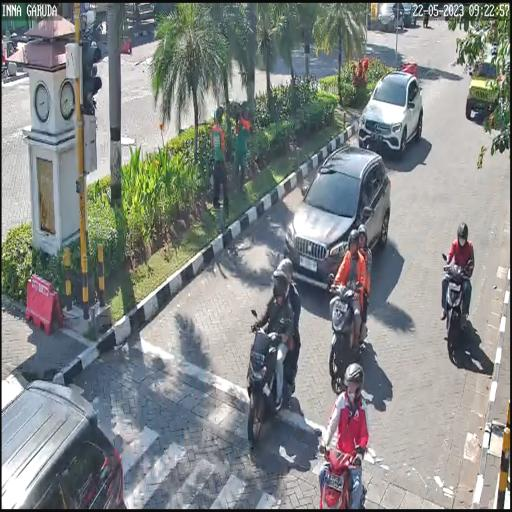mobil: (280, 145, 397, 291), (354, 70, 427, 154)
motor: (240, 299, 304, 447), (436, 247, 478, 366), (325, 278, 371, 384), (313, 429, 369, 512)
